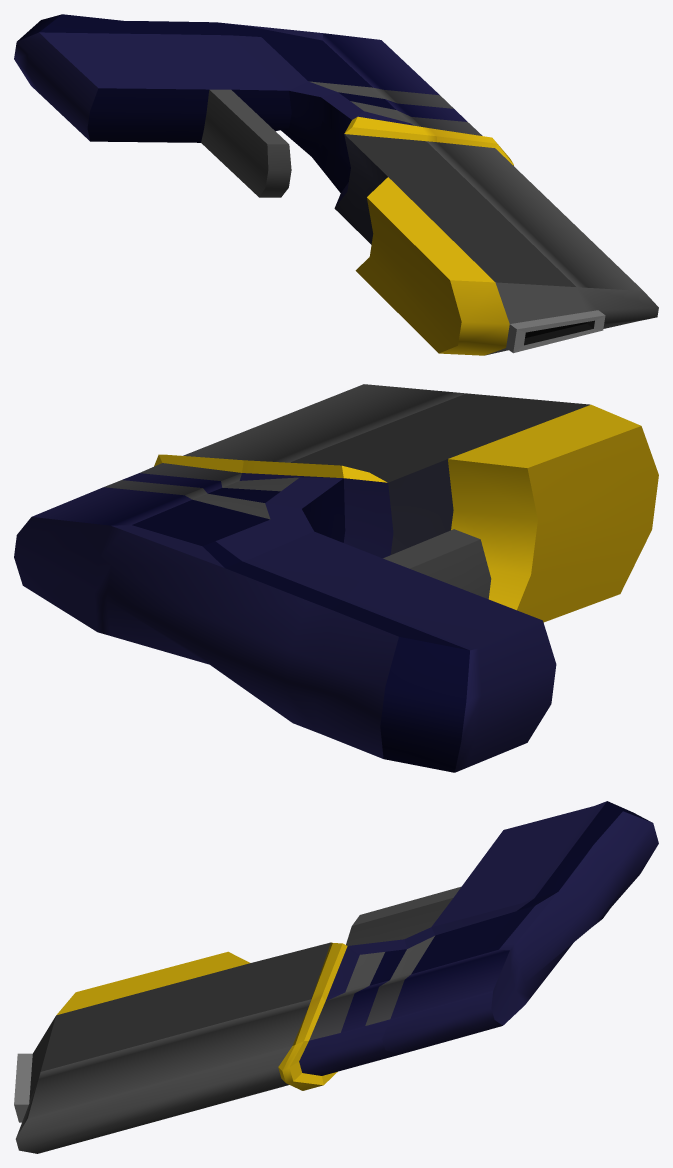
The model's file is pistol(1).fbx.
The picture shows the model from 3 angles, top to bottom: view 1: azimuth 30°, elevation 25°; view 2: azimuth 150°, elevation 25°; view 3: azimuth 270°, elevation 25°; orthographic projection. The views are drawn at different scales.
Parts seen in each view (by area): view 1: pCube1; view 2: pCube1; view 3: pCube1.
Boxes of the visible parts, bbox=[...] form: pCube1: bbox=[14, 14, 658, 355]; pCube1: bbox=[14, 384, 658, 772]; pCube1: bbox=[14, 801, 658, 1153].
Bounding box in the file's own units: 25.6 × 13.54 × 38.56.
